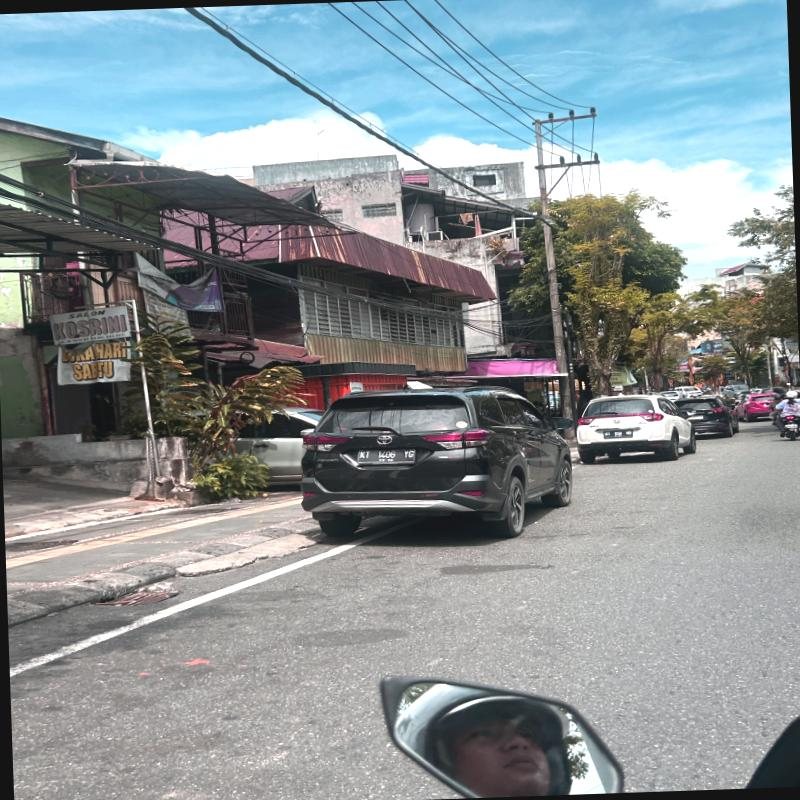license plate on a car: (357, 450, 414, 462), (604, 429, 631, 437)
